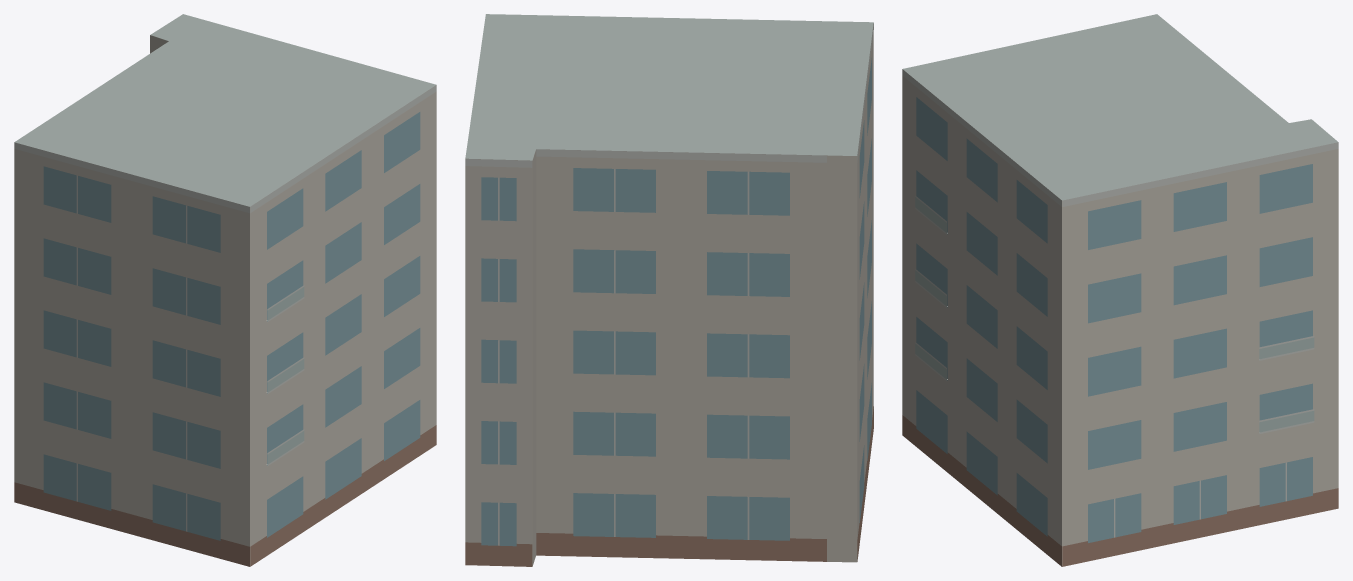
The model's file is survey-upis-33004639.glb.
3 views of the same model, side by side, from view 1: azimuth 30°, elevation 25°; view 2: azimuth 150°, elevation 25°; view 3: azimuth 270°, elevation 25° (orthographic). The views are drawn at different scales.
Parts seen in each view (by area): view 1: survey-upis-33004639.tmp; view 2: survey-upis-33004639.tmp; view 3: survey-upis-33004639.tmp.
Part boxes in pixels (box(x1,y1,x2,y2)): survey-upis-33004639.tmp: box(14, 14, 436, 566); survey-upis-33004639.tmp: box(465, 14, 873, 566); survey-upis-33004639.tmp: box(902, 14, 1338, 566).
Size of the model in its own units: 14.76 by 13.5 by 14.58.
